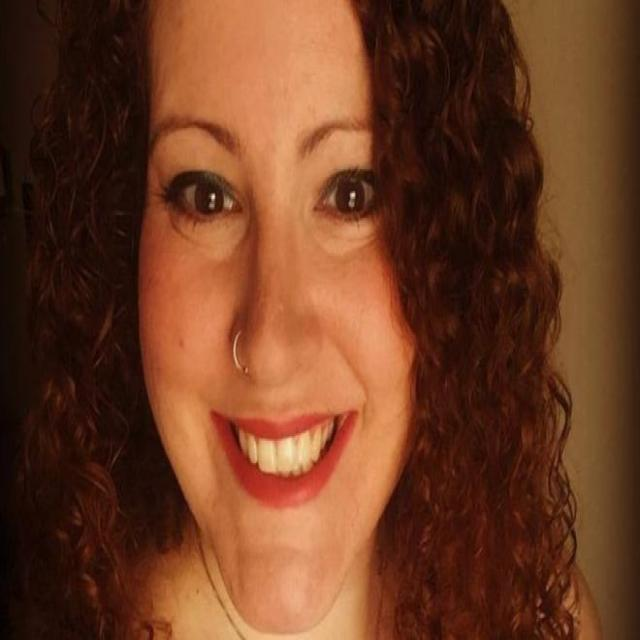mobile_phonerotation: (7, 0, 603, 637)
